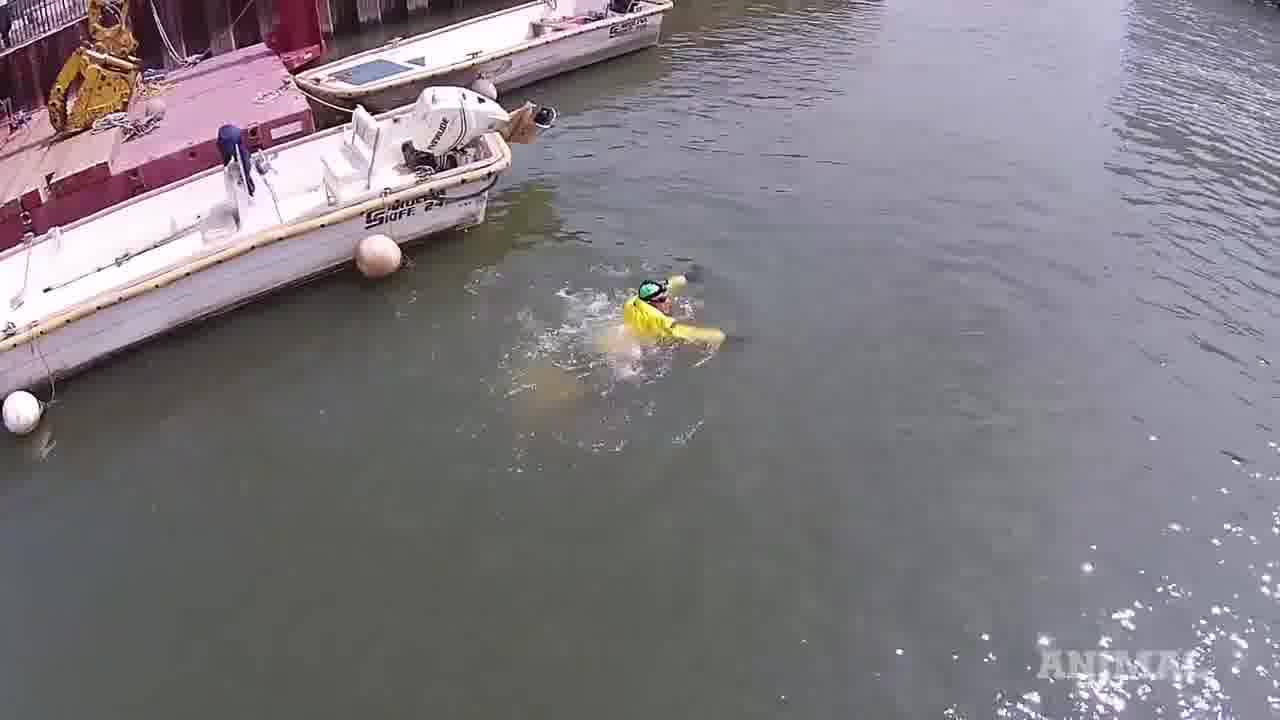human: (569, 255, 749, 367)
